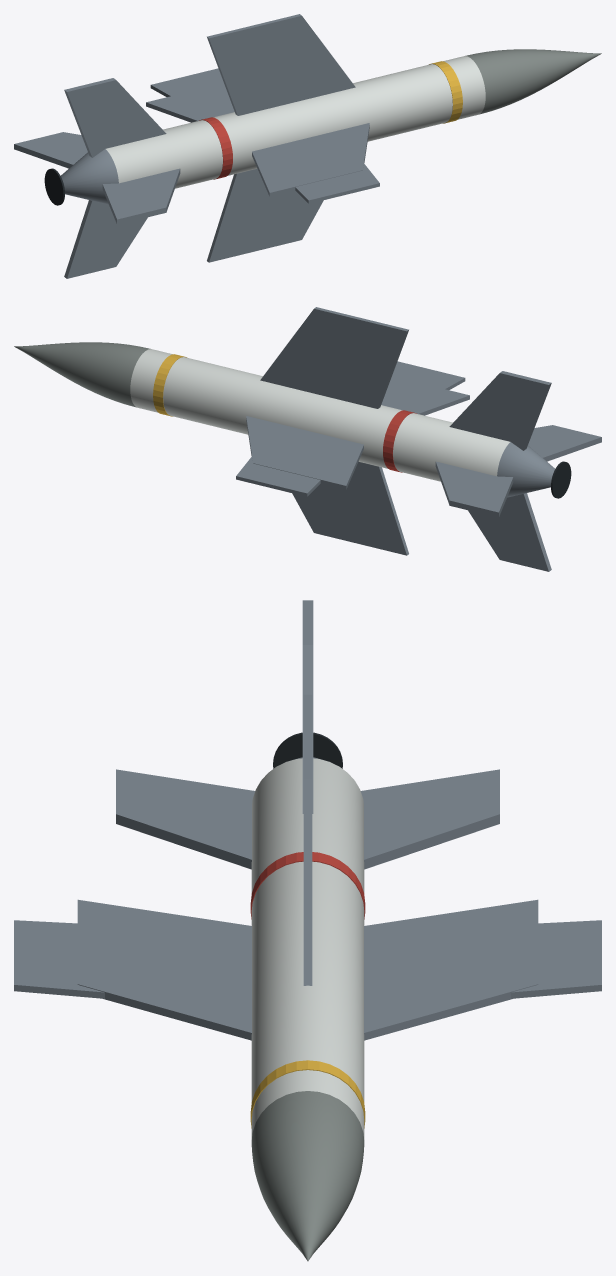
Rendered from tomahawk_block_v.glb.
3 renders of one model, top to bottom at view 1: azimuth 30°, elevation 25°; view 2: azimuth 150°, elevation 25°; view 3: azimuth 270°, elevation 25°, orthographic. The views are drawn at different scales.
Visible parts, largest first — view 1: tomahawk_block_v; view 2: tomahawk_block_v; view 3: tomahawk_block_v.
Boxes of the visible parts, <box> form: tomahawk_block_v: <box>14,14,601,278</box>; tomahawk_block_v: <box>14,307,601,571</box>; tomahawk_block_v: <box>14,600,601,1261</box>.
Bounding box in the file's own units: 10 × 3.91 × 5.
